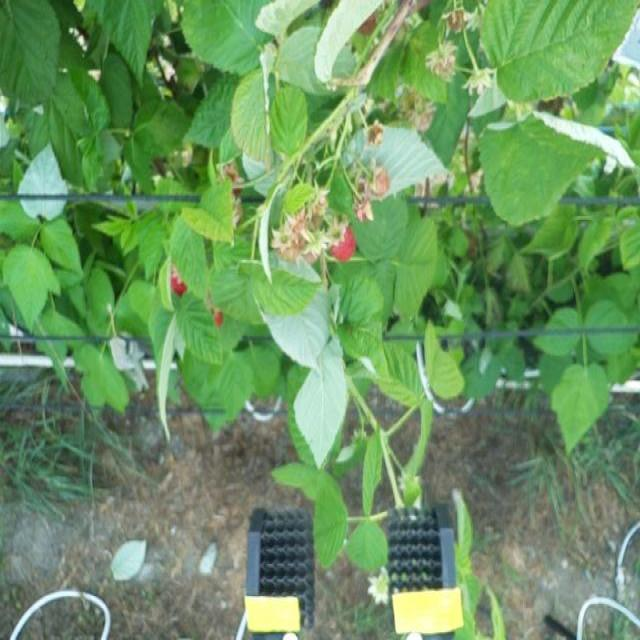Riped berries: (327, 218, 360, 262), (165, 256, 191, 296), (204, 296, 228, 331)
